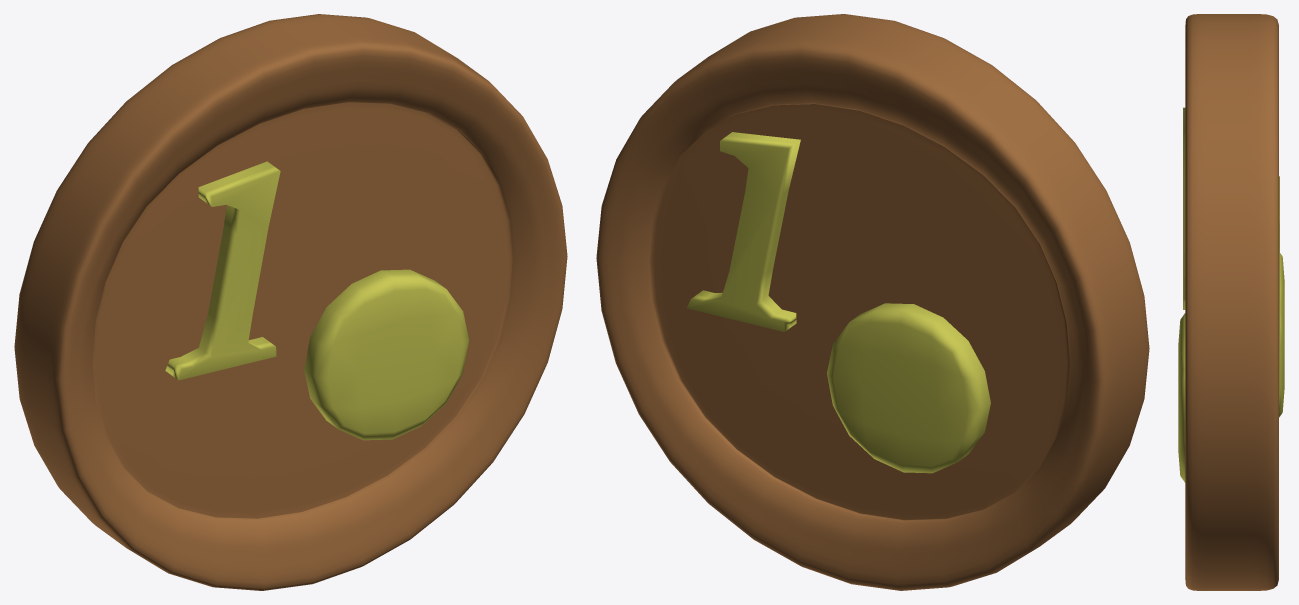
File: 1cent.fbx
The picture shows the model from 3 angles, left to right: view 1: azimuth 30°, elevation 25°; view 2: azimuth 150°, elevation 25°; view 3: azimuth 270°, elevation 25°; orthographic projection. The views are drawn at different scales.
Visible parts, largest first — view 1: pCylinder1, pCylinder3; view 2: pCylinder1, pCylinder4; view 3: pCylinder1, pCylinder3, pCylinder4.
Part boxes in pixels (<box>): pCylinder1: <box>14,14,567,590</box>; pCylinder3: <box>165,161,469,440</box>; pCylinder1: <box>596,14,1149,590</box>; pCylinder4: <box>687,132,990,473</box>; pCylinder1: <box>1185,14,1278,590</box>; pCylinder3: <box>1178,107,1185,482</box>; pCylinder4: <box>1279,176,1284,417</box>.
Bounding box in the file's own units: 3.63 × 3.63 × 0.6681.
